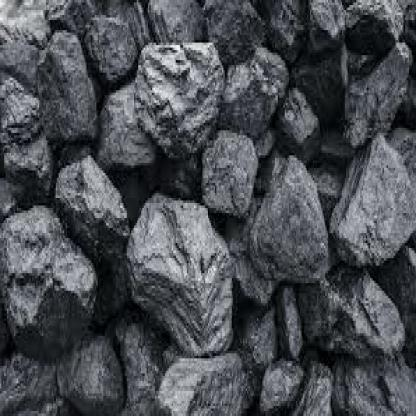Sedimentary_coal: (124, 188, 235, 358), (1, 195, 102, 346), (252, 153, 336, 288), (136, 30, 226, 155), (333, 137, 415, 262), (39, 25, 103, 158), (144, 346, 251, 413), (222, 40, 290, 130), (334, 273, 406, 356)
